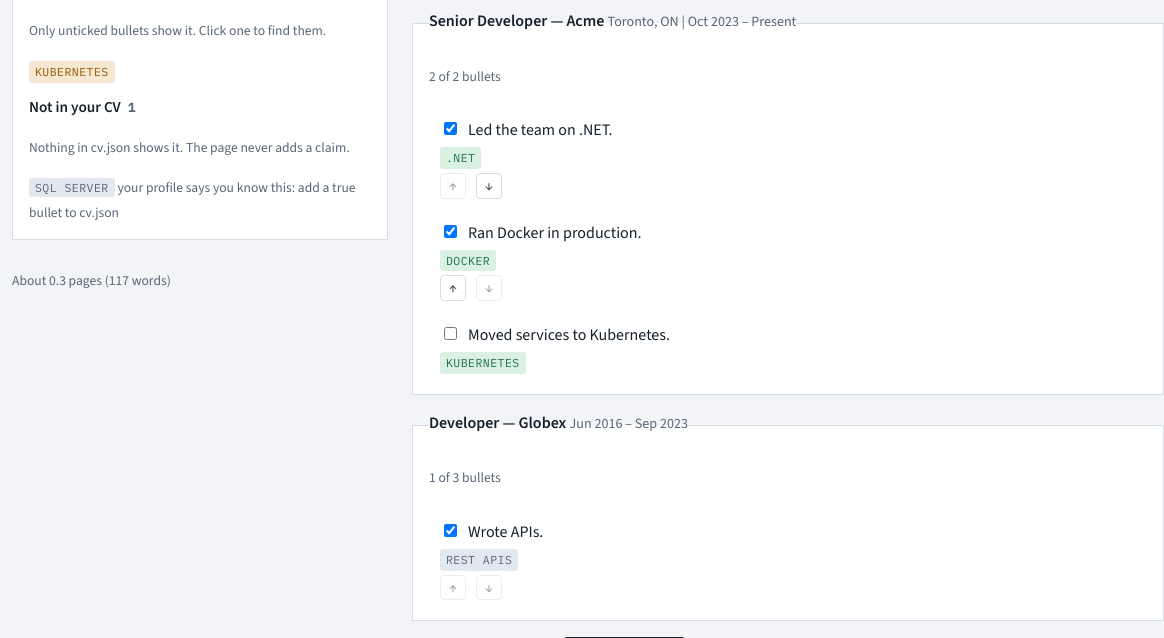
Test: Tailor CV page › shows the suggestion and moves skills between groups as bullets are ticked
The width and height of the screenshot is (1164, 638).
(page scrolled)
Expected: the checkbox labelled "Ran Docker in production." is checked, [444,225,457,238]
Expected: the button "Kubernetes" is shown, [29,61,115,83]
Click the checkbox labelled "Moved services to Kubernetes." at [450, 334], box [444,327,457,340]
(page scrolled)
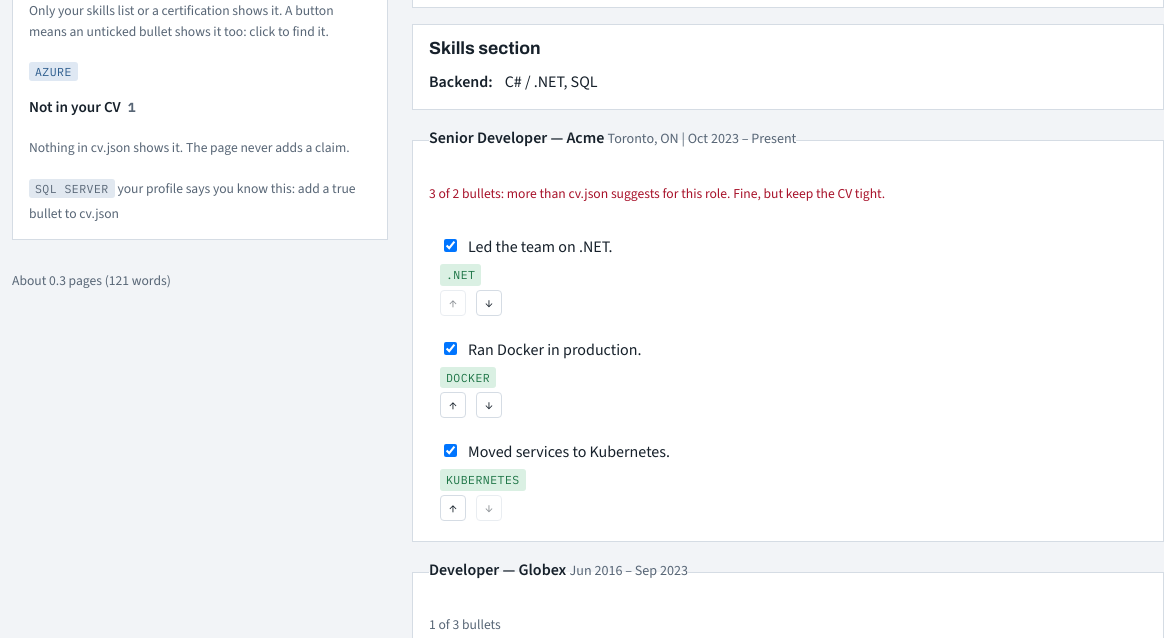
Result: the text "3 of 2 bullets: more than cv.json suggests" is shown at [429,184,885,202]
